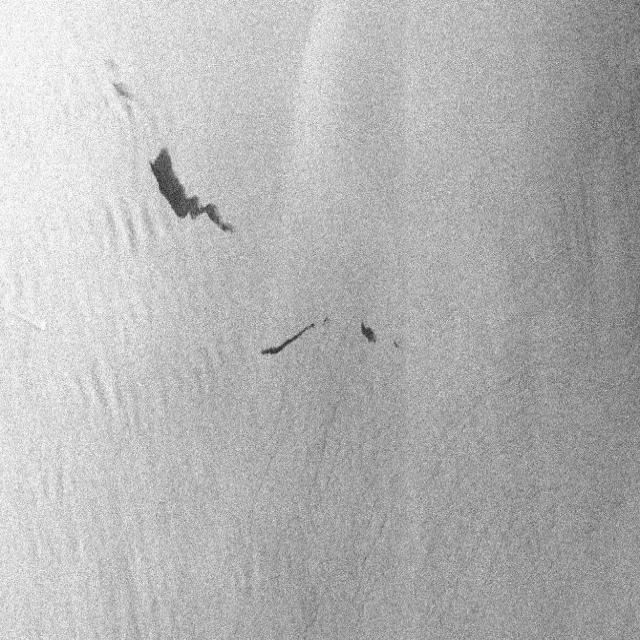oil-spill: (146, 136, 238, 241), (259, 314, 316, 362), (356, 312, 380, 351)
